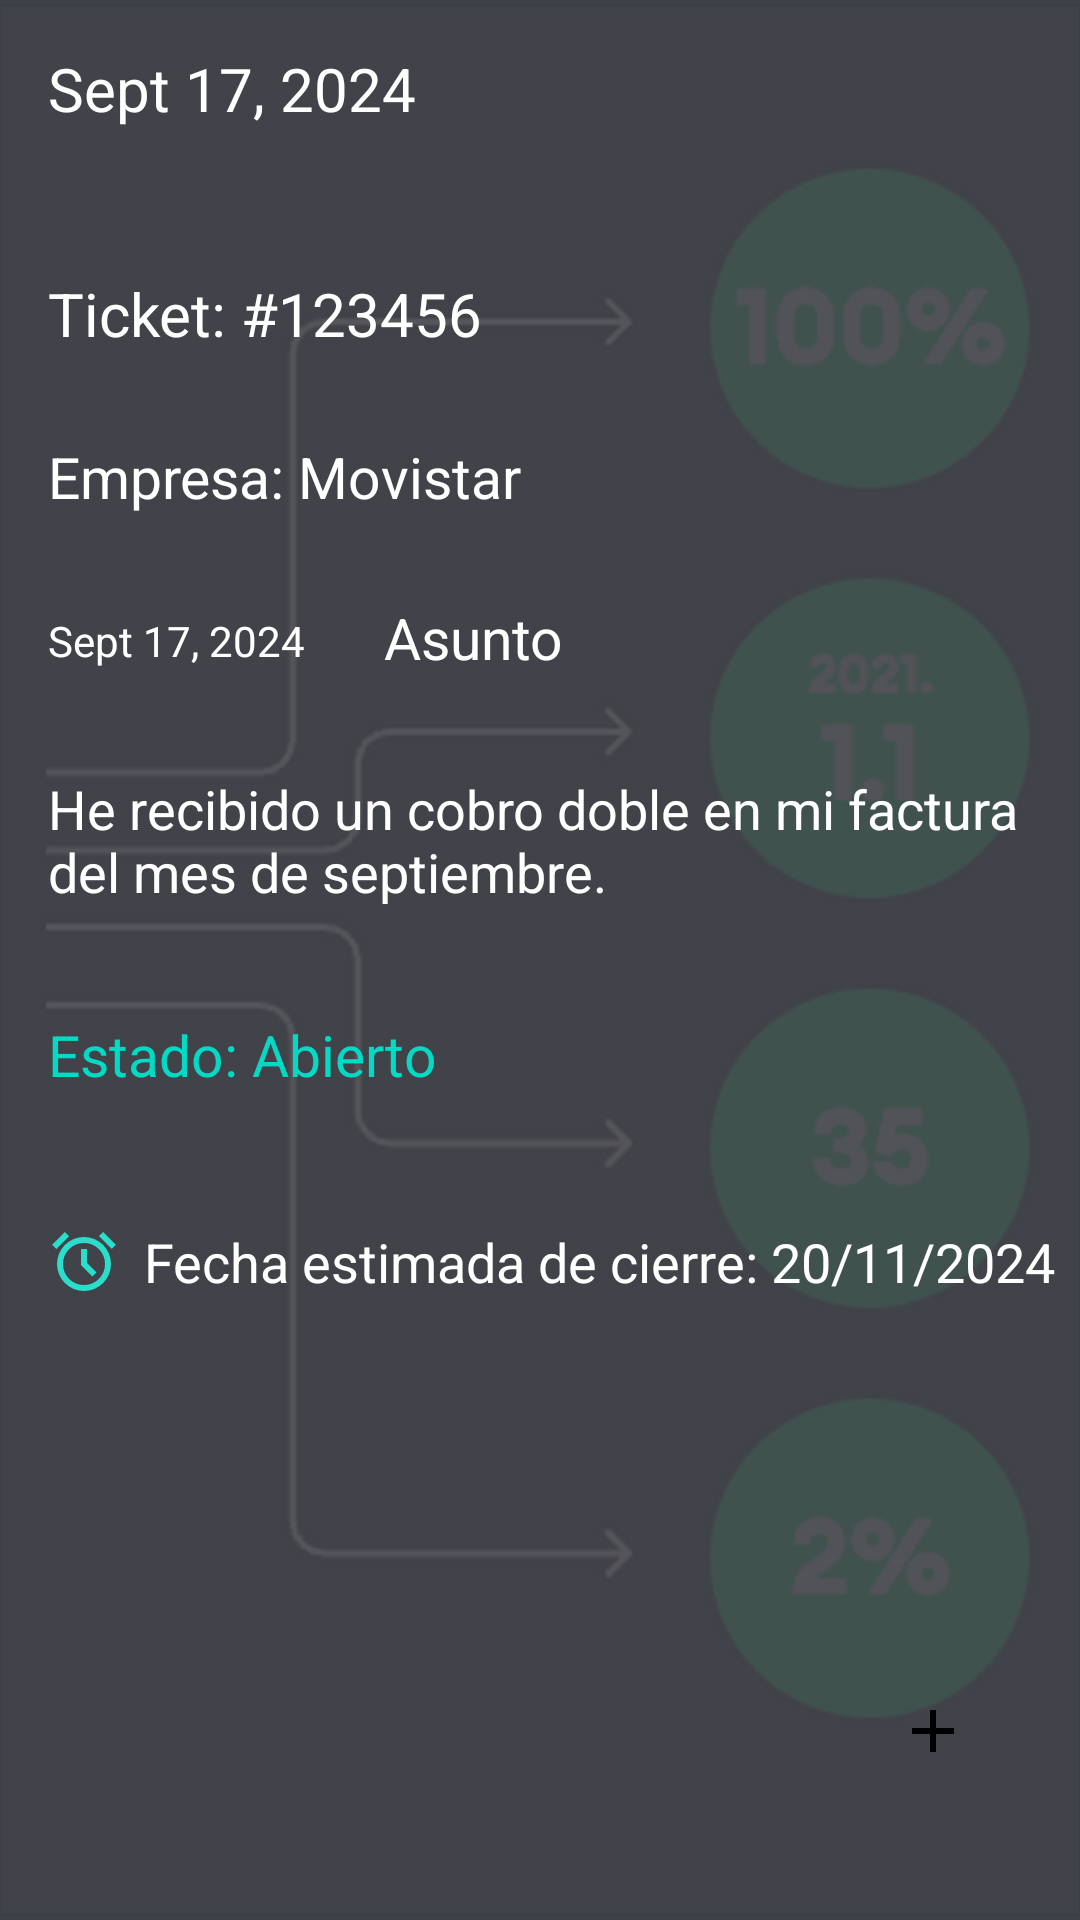

Icon bounding boxes for this 1080px×1920px phone screenshot, format (x1, y1, x2, y2):
add: (912, 1710, 954, 1752)
